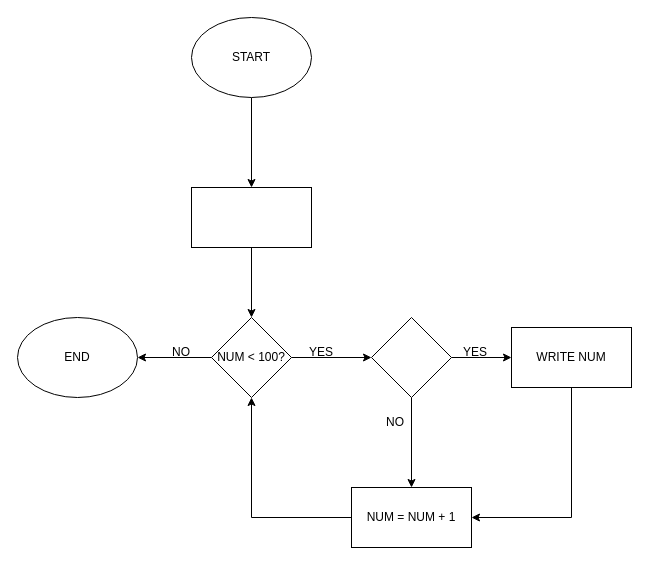
Some shapes in this 649 by 565 pixel diagram are drawn without their labels. Each missing label, with the box of its shape:
LET NUM = 9: (190, 186, 312, 248)
NUM % 2 == 0: (370, 316, 452, 398)
